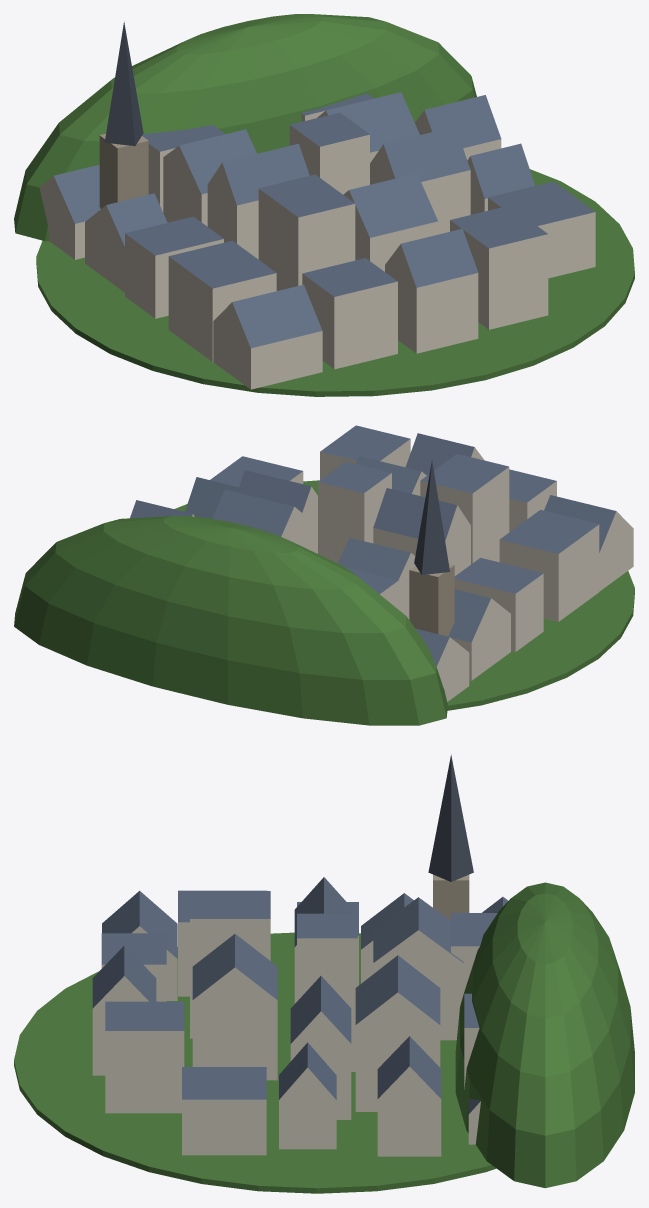
Rendered from sligo.glb.
3 renders of one model, top to bottom at view 1: azimuth 30°, elevation 25°; view 2: azimuth 150°, elevation 25°; view 3: azimuth 270°, elevation 25°, orthographic. The views are drawn at different scales.
Size of the model in its own units: 2 by 0.87 by 2.05.
